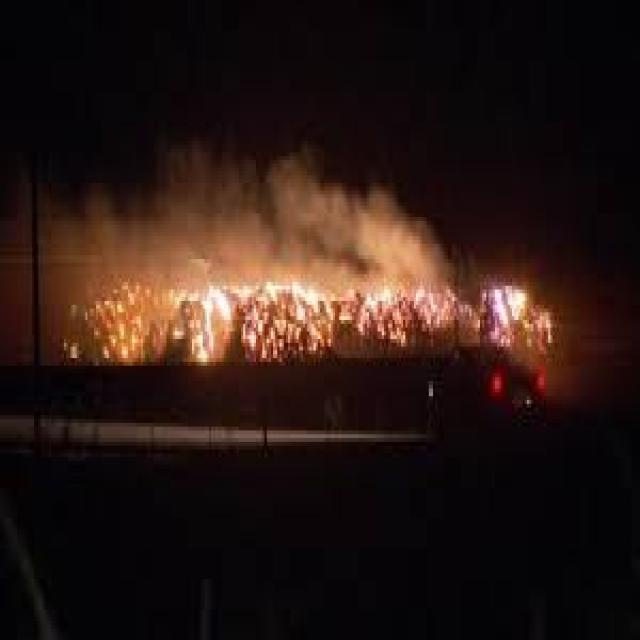Fire: (62, 281, 556, 364)
Smoke: (0, 136, 454, 279)
